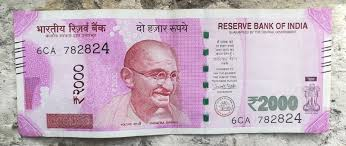twoThousand: (35, 31, 314, 117)
